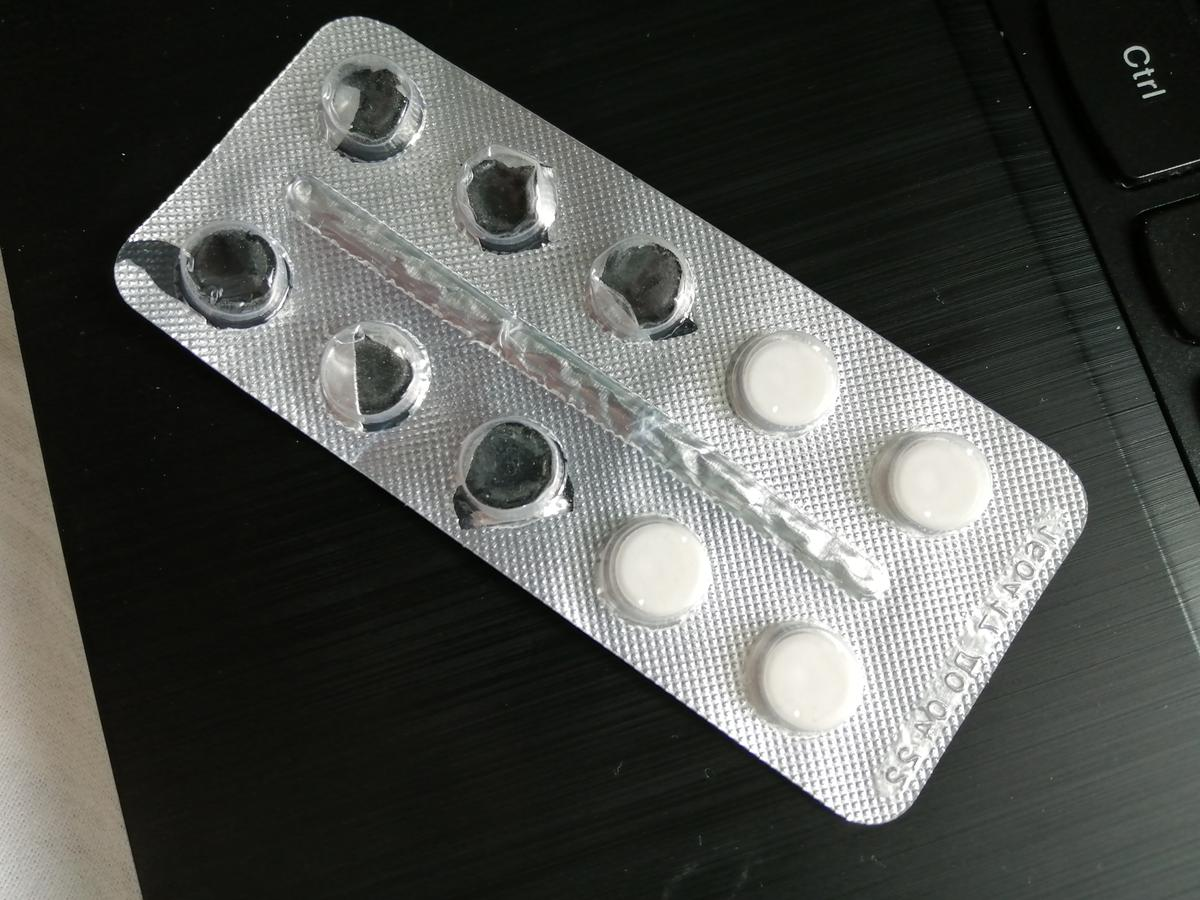tablet: (745, 613, 868, 731), (733, 324, 843, 442), (601, 518, 713, 629), (888, 434, 991, 534)
